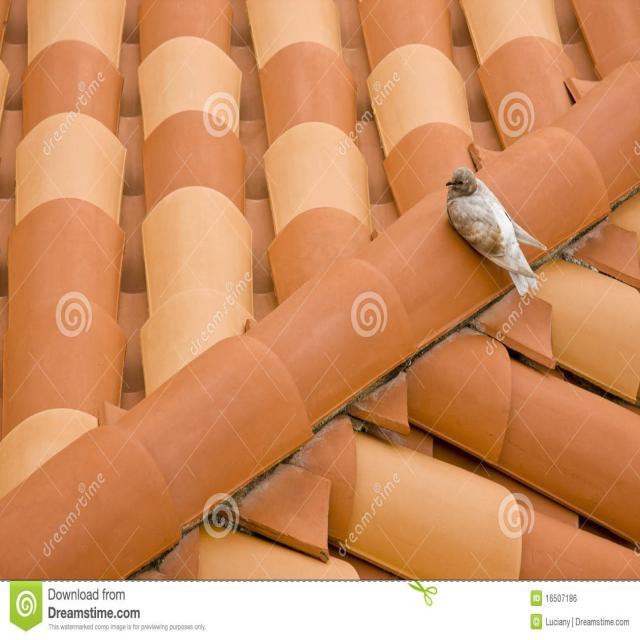bird: (444, 166, 547, 299)
